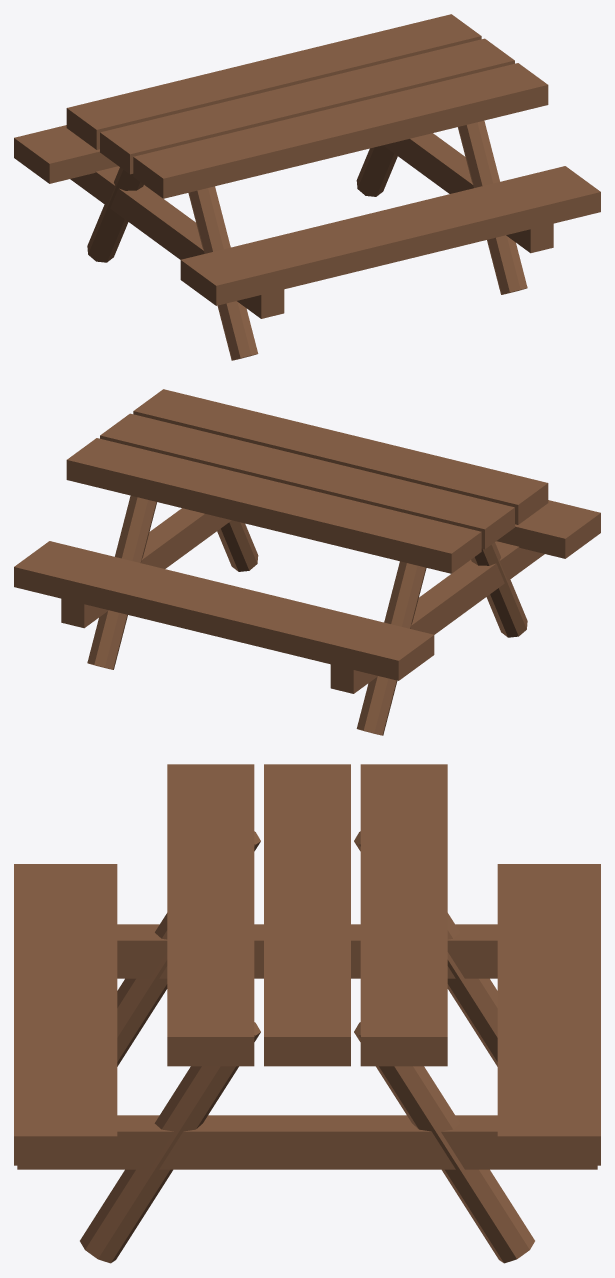
Rendered from picnic_table.glb.
3 views of the same model, one above another, from view 1: azimuth 30°, elevation 25°; view 2: azimuth 150°, elevation 25°; view 3: azimuth 270°, elevation 25° (orthographic). The views are drawn at different scales.
Visible parts, largest first — view 1: bench, table_plank, table_plank.002, table_plank.001, bench_support, bench_support.001, bench.001, trestle.002, trestle, trestle.001, trestle.003; view 2: bench.001, table_plank.002, table_plank, table_plank.001, bench_support, bench_support.001, bench, trestle.003, trestle.001, trestle, trestle.002; view 3: bench, bench.001, table_plank, table_plank.002, table_plank.001, bench_support.001, trestle.002, trestle.003, bench_support, trestle, trestle.001.
Boxes of the visible parts, <box> form: bench: <box>180,166,600,305</box>; table_plank: <box>133,63,548,198</box>; table_plank.002: <box>66,14,481,149</box>; table_plank.001: <box>100,38,514,174</box>; bench_support: <box>70,166,284,318</box>; bench_support.001: <box>383,133,553,253</box>; bench.001: <box>14,125,118,183</box>; trestle.002: <box>458,120,527,294</box>; trestle: <box>188,186,258,360</box>; trestle.001: <box>87,167,143,262</box>; trestle.003: <box>356,145,397,196</box>; bench.001: <box>14,541,434,680</box>; table_plank.002: <box>66,438,481,573</box>; table_plank: <box>133,389,548,524</box>; table_plank.001: <box>100,413,514,549</box>; bench_support: <box>330,541,544,693</box>; bench_support.001: <box>61,508,231,628</box>; bench: <box>496,500,600,558</box>; trestle.003: <box>87,495,156,669</box>; trestle.001: <box>356,561,426,735</box>; trestle: <box>471,542,527,637</box>; trestle.002: <box>217,520,258,571</box>; bench: <box>14,864,117,1165</box>; bench.001: <box>497,864,600,1165</box>; table_plank: <box>167,764,254,1066</box>; table_plank.002: <box>360,764,447,1066</box>; table_plank.001: <box>264,764,350,1066</box>; bench_support.001: <box>17,1115,597,1169</box>; trestle.002: <box>80,1022,260,1263</box>; trestle.003: <box>354,1022,534,1263</box>; bench_support: <box>117,924,497,978</box>; trestle: <box>117,831,260,1066</box>; trestle.001: <box>354,831,497,1066</box>.
Bounding box in the file's own units: 2 × 0.9025 × 1.82.
